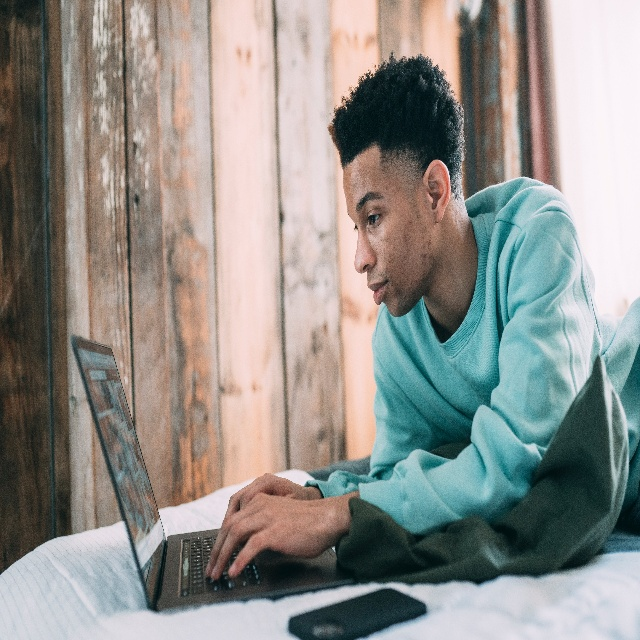Sin_guantes: (204, 492, 338, 580), (218, 471, 314, 521)
